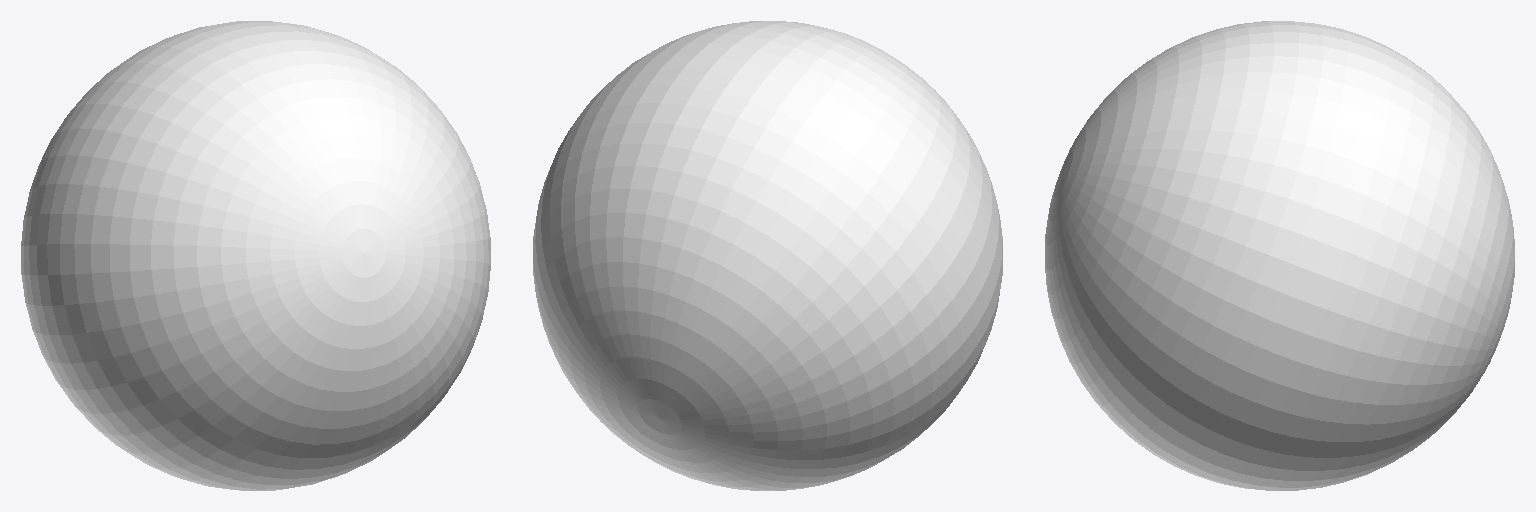
The model's file is moon.obj.
The picture shows the model from 3 angles: view 1: azimuth 30°, elevation 25°; view 2: azimuth 150°, elevation 25°; view 3: azimuth 270°, elevation 25°; orthographic projection.
Visible parts, largest first — view 1: Object.1; view 2: Object.1; view 3: Object.1.
Boxes of the visible parts, <box> form: Object.1: <box>21,21,490,490</box>; Object.1: <box>533,21,1002,490</box>; Object.1: <box>1045,21,1514,490</box>.
Bounding box in the file's own units: 0.512 × 0.5119 × 0.5119.